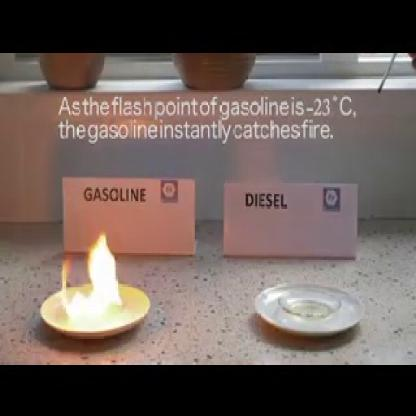fire: (49, 232, 132, 333)
